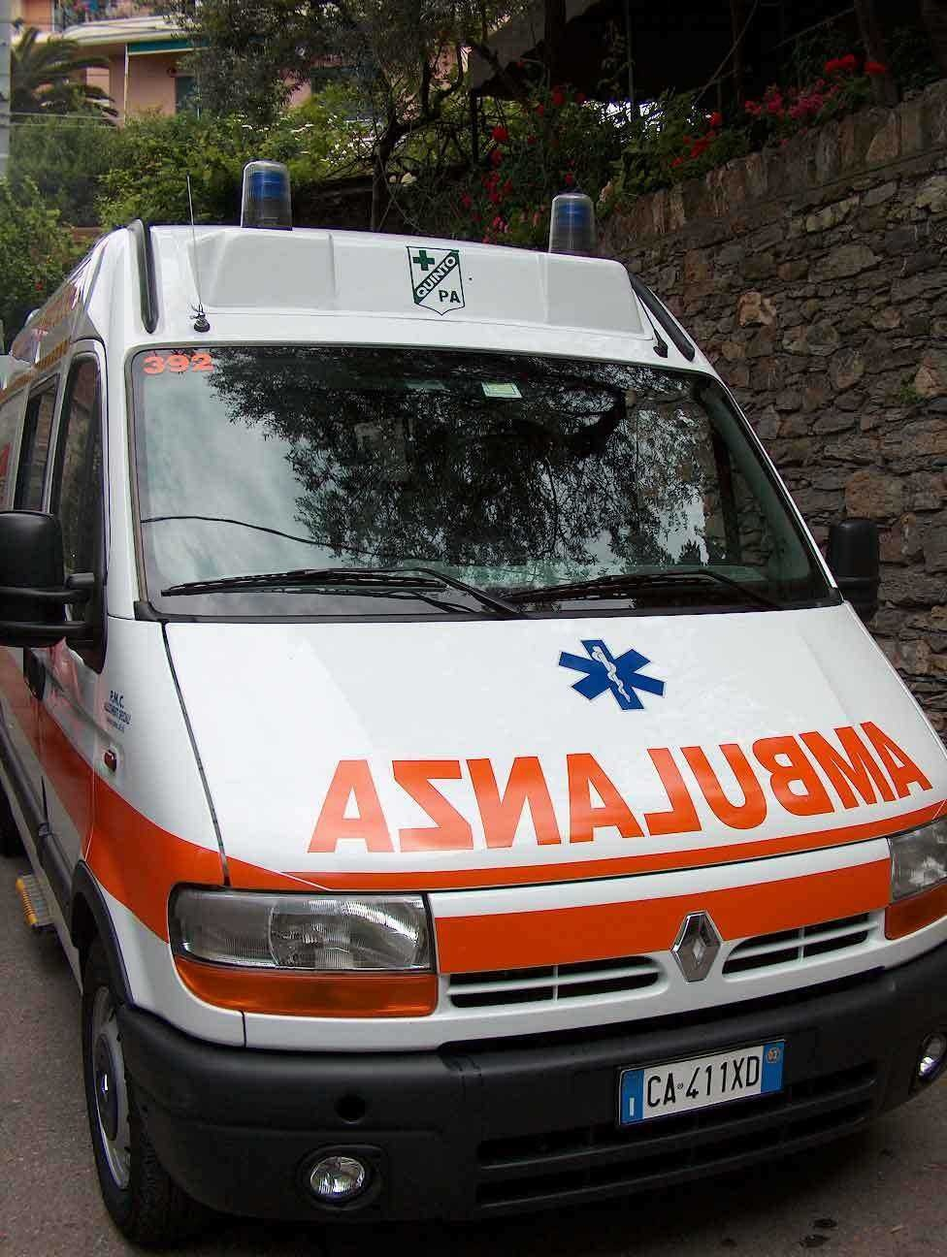Ambulance: (19, 156, 947, 1257)
